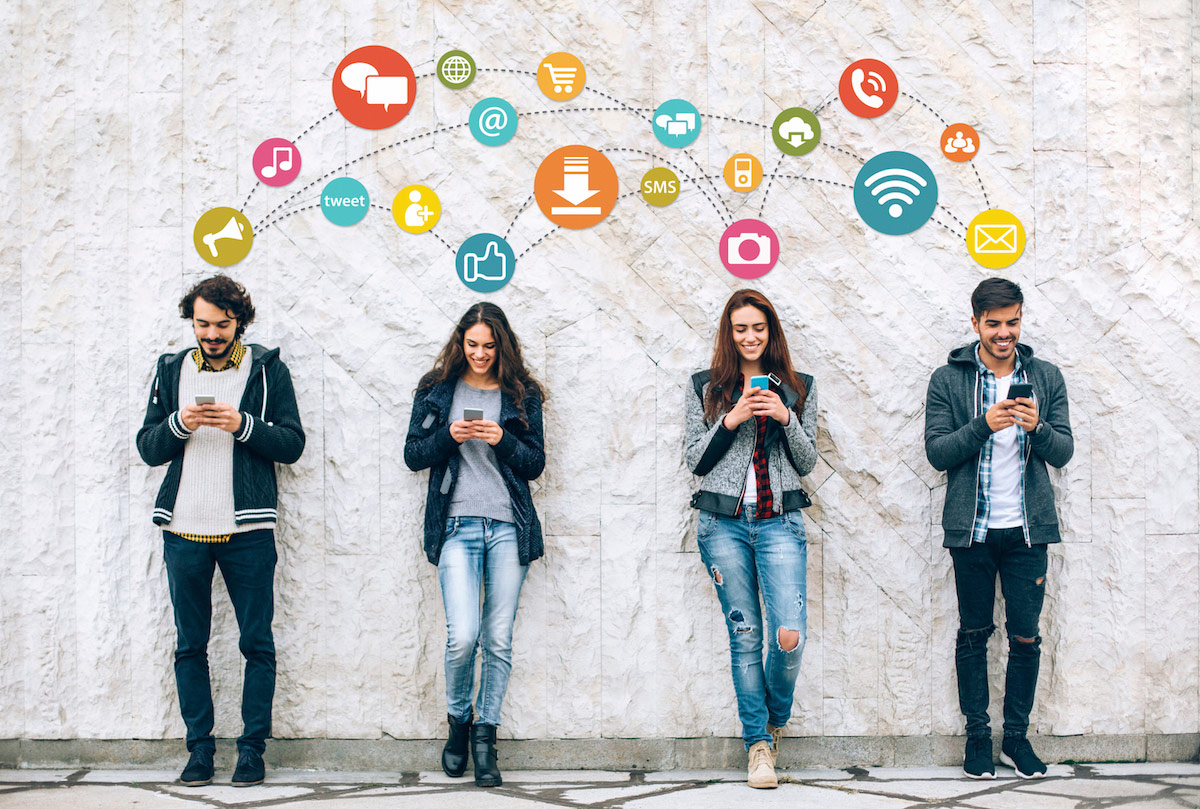Person: (134, 274, 307, 787), (925, 277, 1074, 776), (403, 301, 547, 791), (685, 289, 817, 789)
